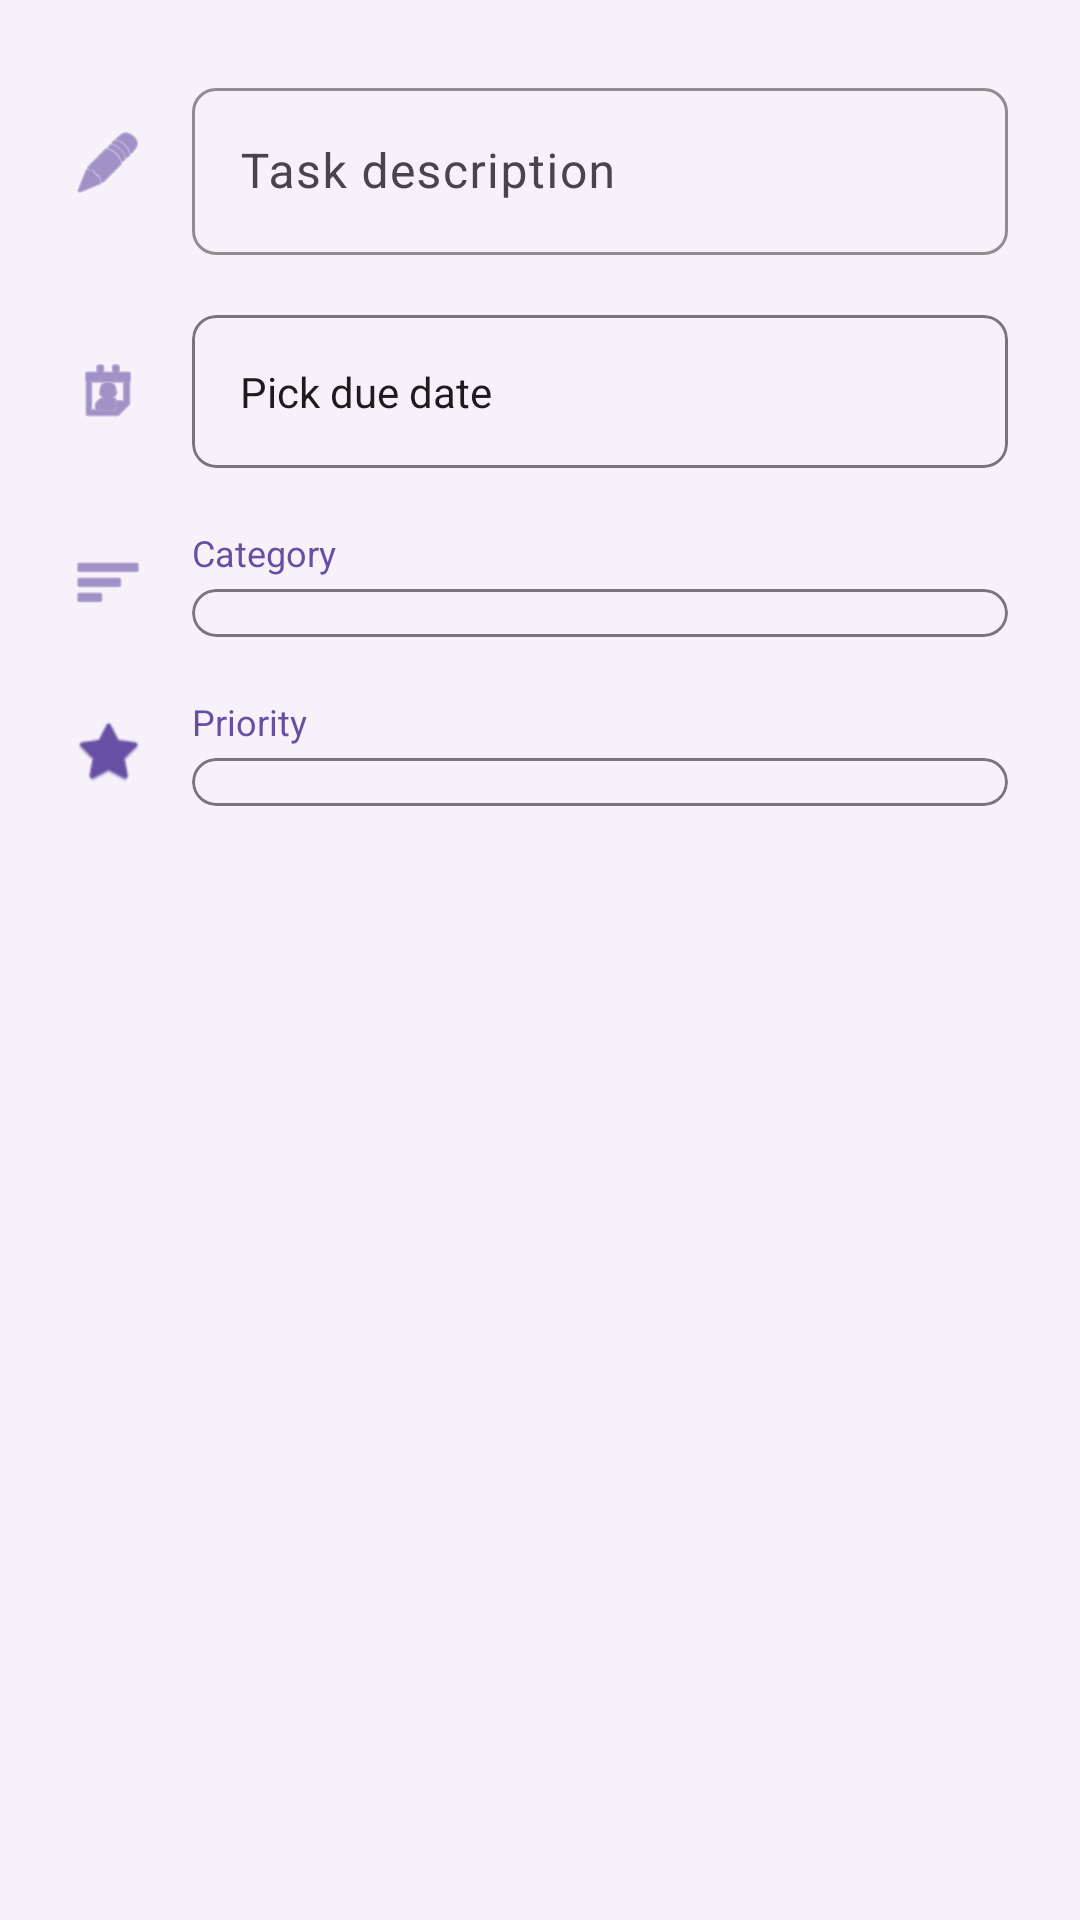

Icons on this 1080px x 1920px Android screen, each with its box as box(x1, y1, x2, y2):
calendar: box(85, 364, 131, 417)
edit: box(77, 132, 138, 193)
sort by size: box(77, 562, 139, 602)
star on: box(79, 723, 139, 781)
